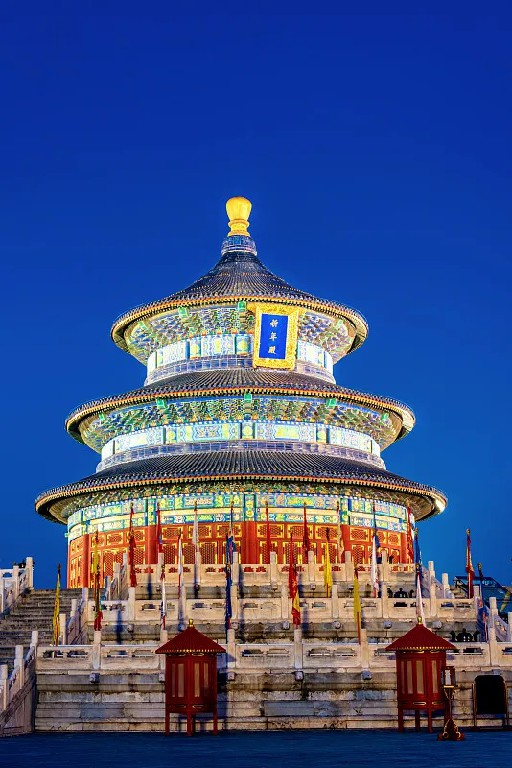Heaven: (35, 194, 448, 587)
